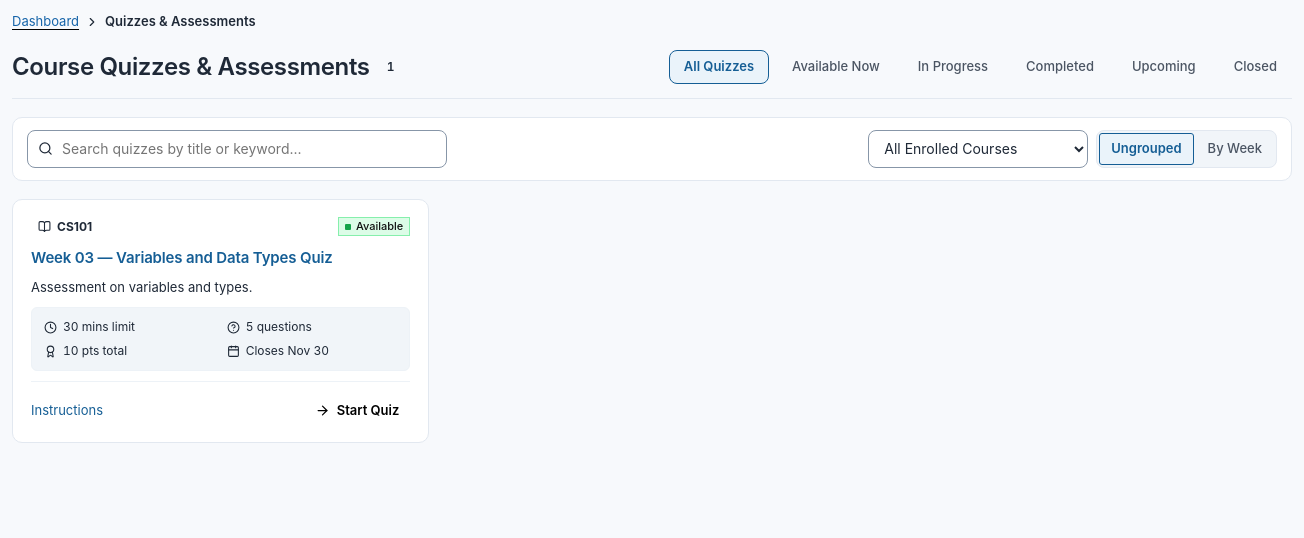
Test: S03: Quiz Assessment Module › renders QuizListPage with quiz cards, time limits, and question counts
Check: the link "Week 03 — Variables and Data Types Quiz" is shown, box [31, 248, 333, 266]
What coordinates should you click on to do the following:
click the button "By Week"
I would click on:
 (1235, 148)
Its box is [1196, 132, 1274, 164].
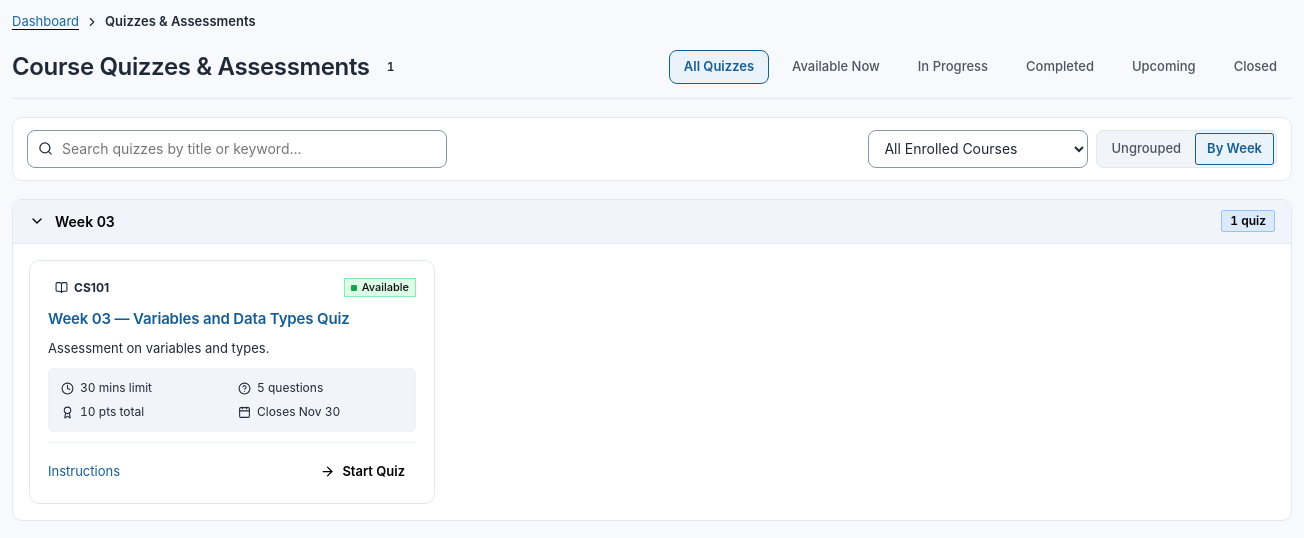
Check: the text "30 mins limit" is shown, box [61, 380, 152, 395]
Check: the text "Week 03" shows "1 quiz", box [12, 198, 1292, 521]
